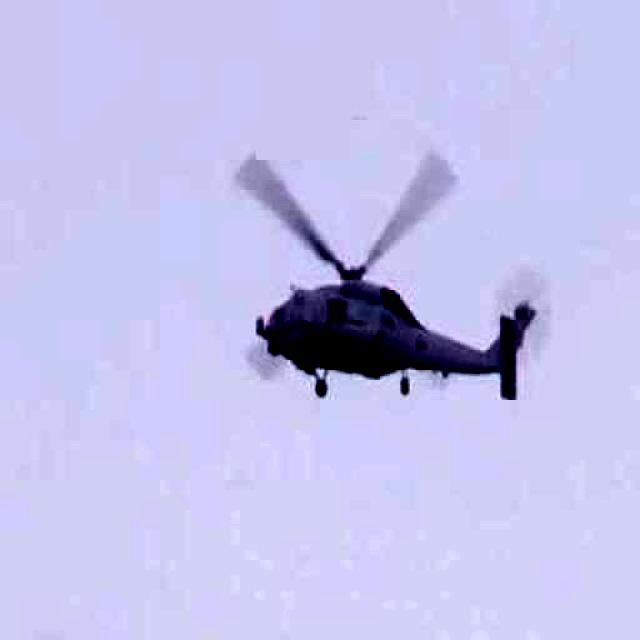drone: (182, 102, 576, 442)
